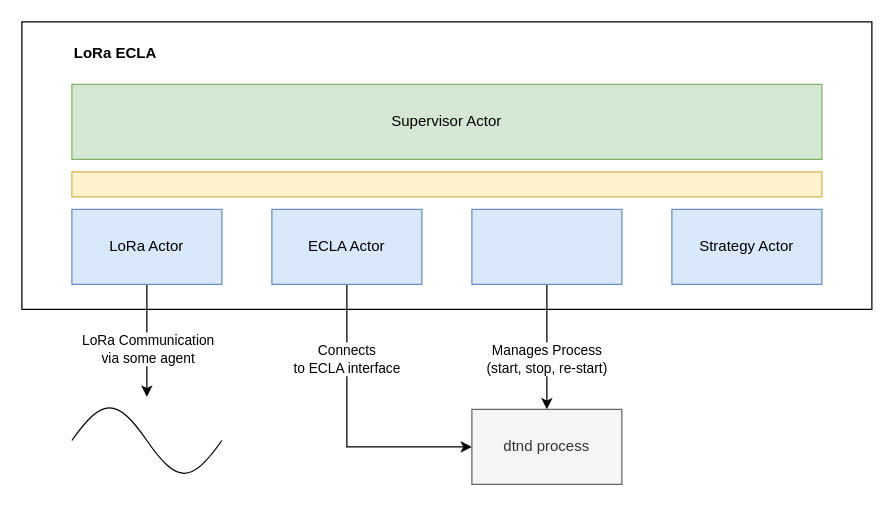
The diagram is 894 pixels wide and 506 high, and some of its shapes have lost their labels. Each missing label, with the box of its shape:
DTND Actor: (471, 208, 622, 284)
Event / Message Bus: (71, 171, 822, 197)
